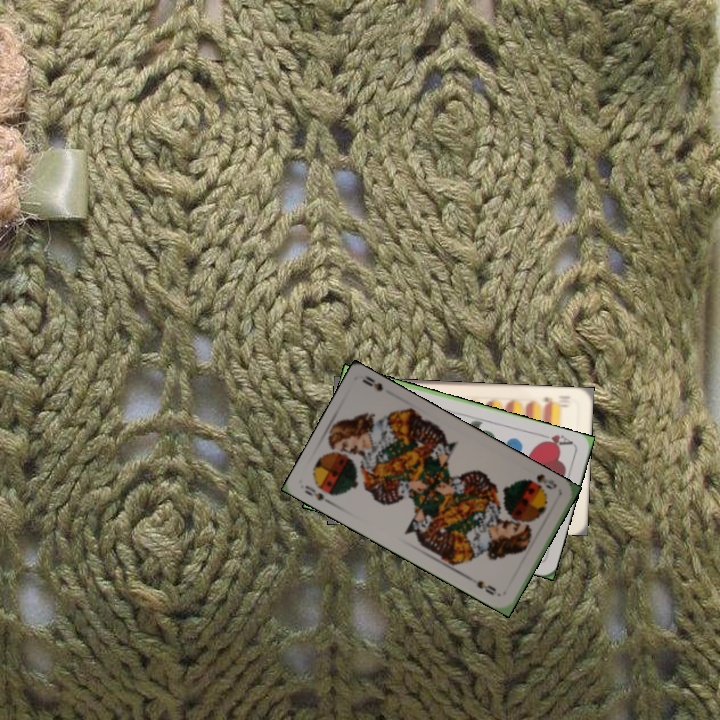E10: (538, 393, 573, 408)
HA: (536, 430, 576, 451)
SO: (301, 481, 337, 508), (532, 470, 560, 492)
